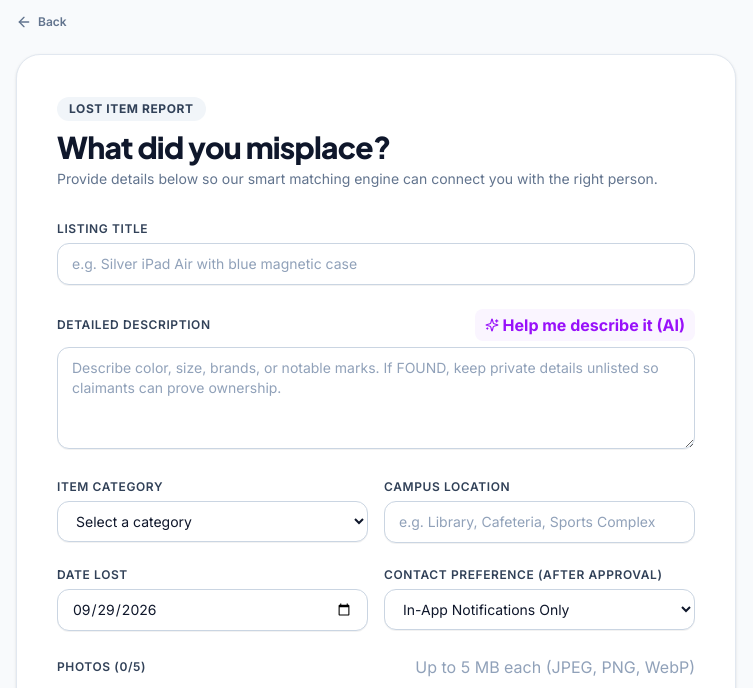
Test case: ReportItem Page › fetches AI assist recommendations on clicking "Help me describe it"
Replace the text in the text box labelled "Detailed Description" with "I lost my silver sony noise cancelling headphones somewhere." at (376, 398), box [57,347,695,449]
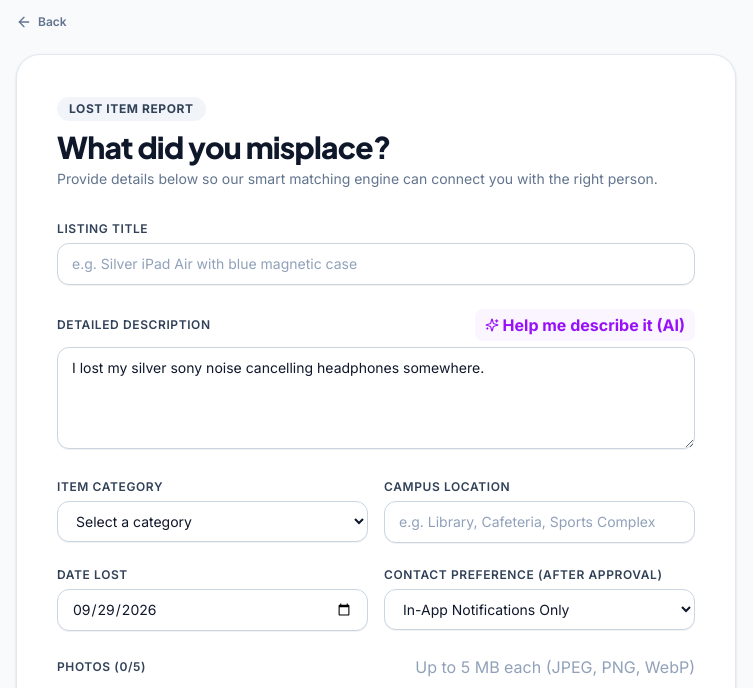
Click the button "Help me describe it (AI)" at (585, 325), box [475,309,695,341]
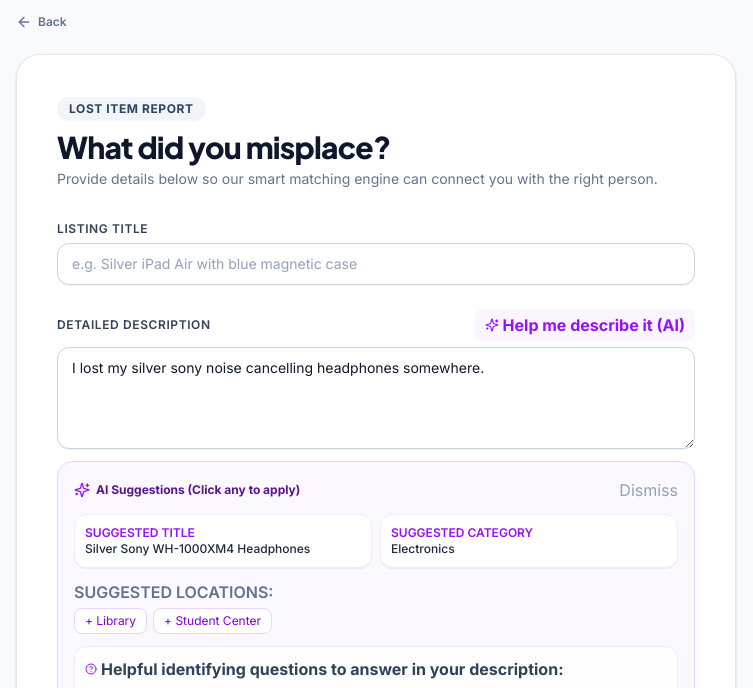
Now the text "Silver Sony WH-1000XM4 Headphones" is shown, box [85,541,310,556]
